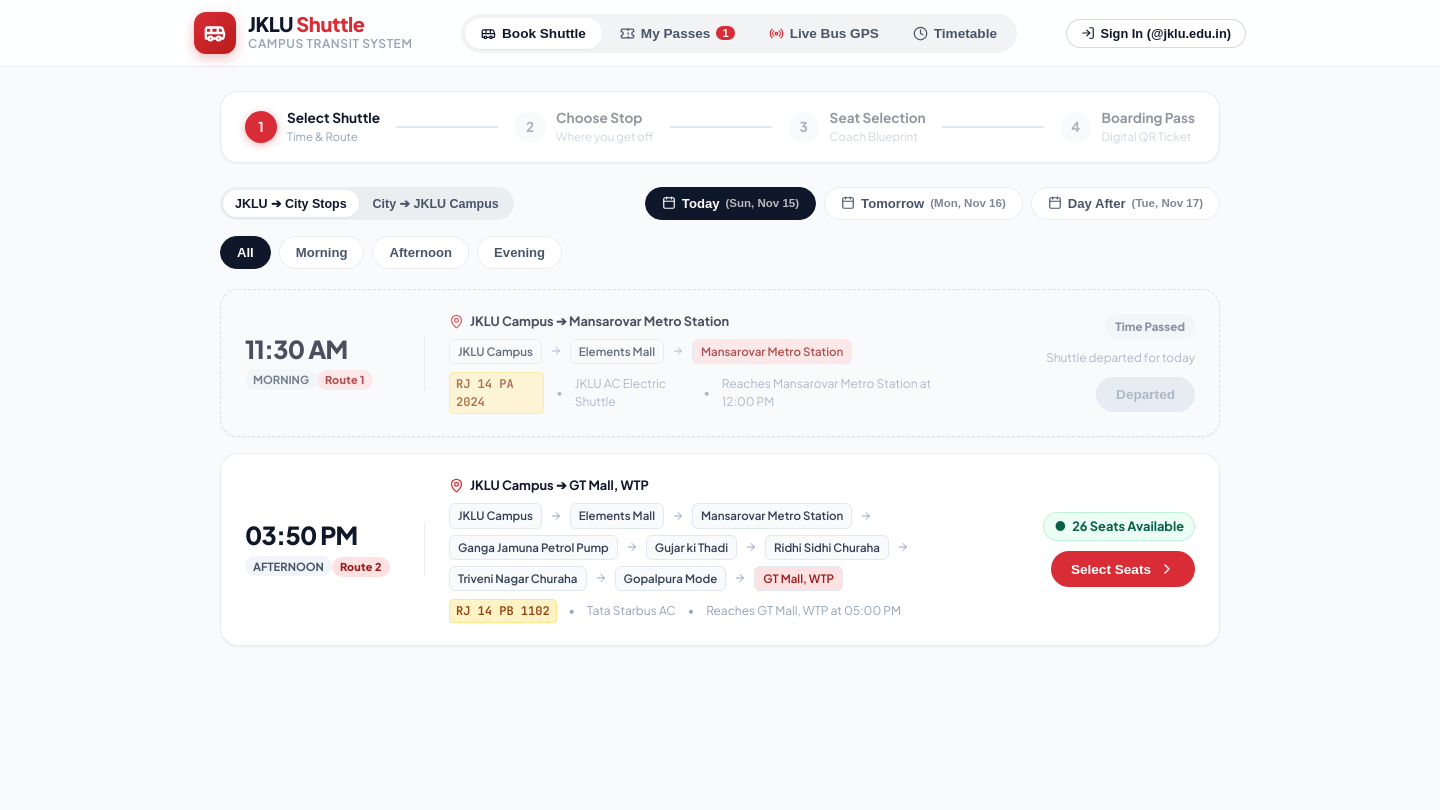
Scenario: Booking Wizard Linked List Navigation & Synchronization › UI does not allow clicking Choose Stop before selecting a shuttle
Note: Click on Choose Stop when no shuttle is selected
Click the text "Choose Stop": [584, 127] box [514,108,654,146]
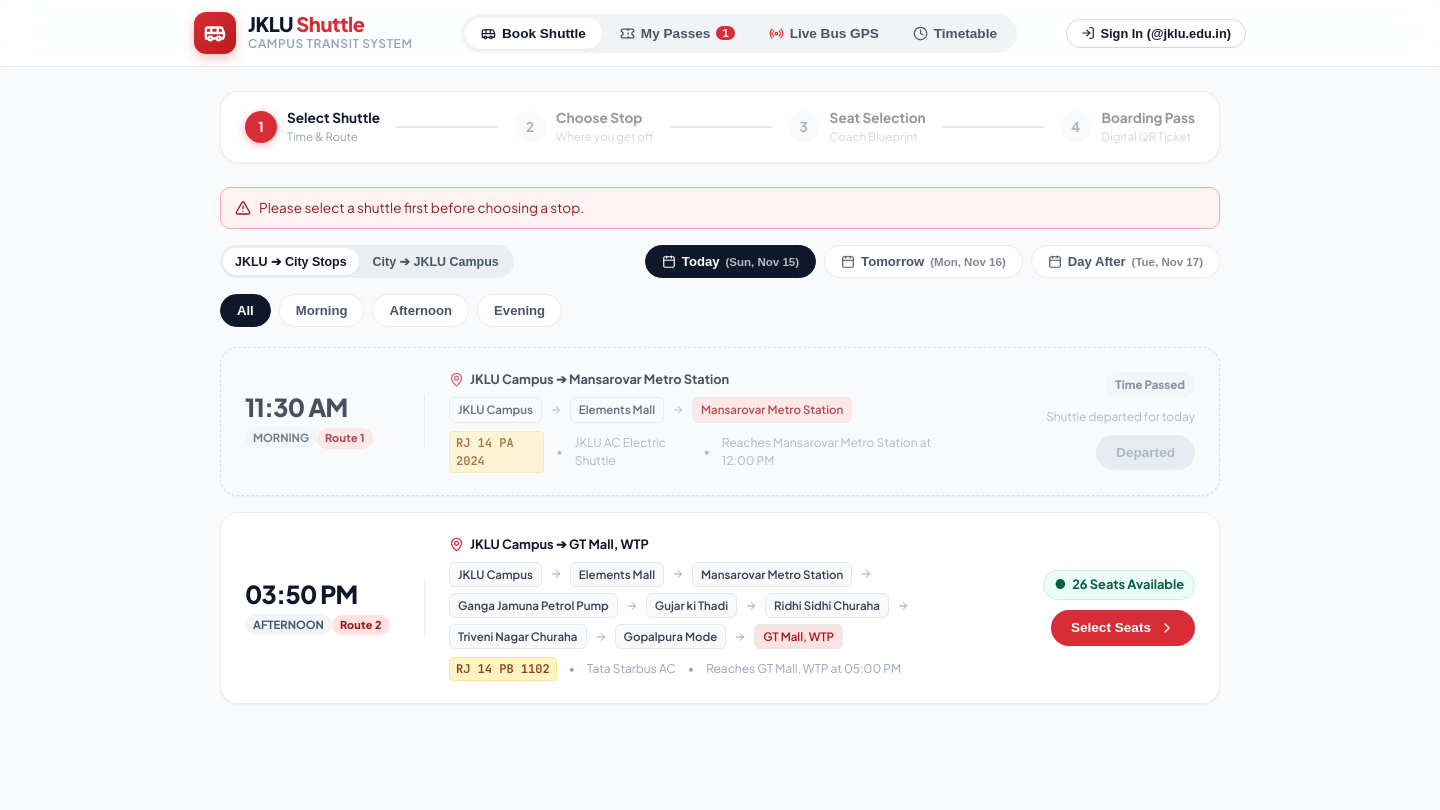
Expected: the text "Please select a shuttle first before choosing a stop." is shown, [259,198,584,218]
